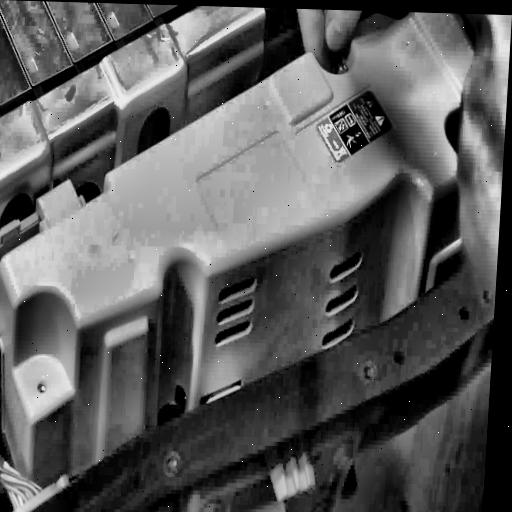busbar: (0, 0, 499, 471)
